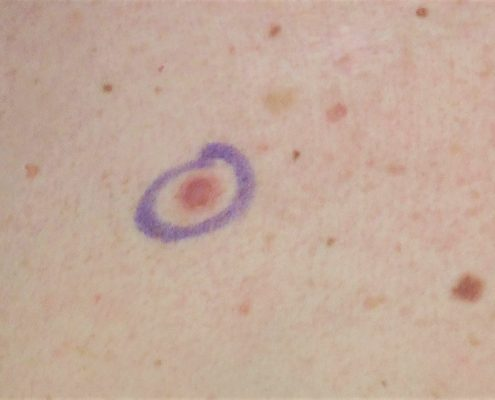melanoma: (265, 94, 491, 320)
